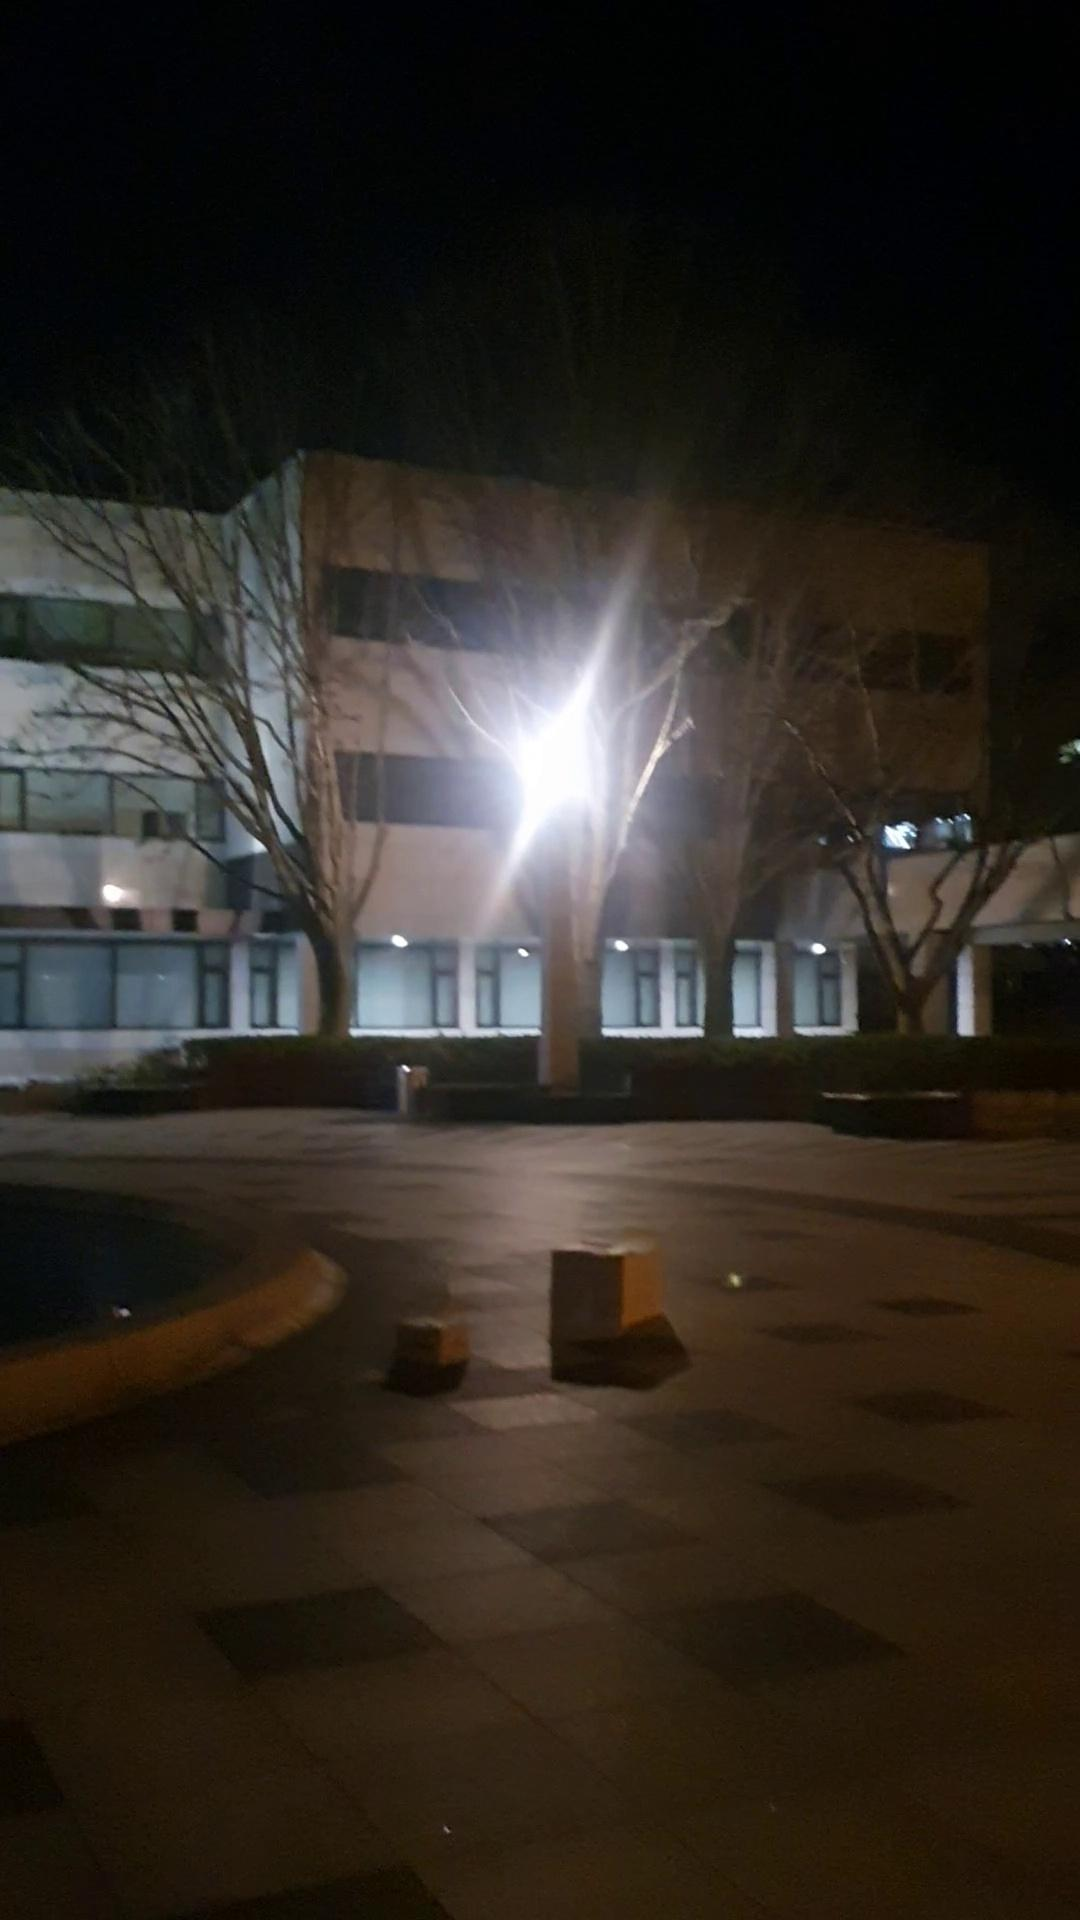Box: (535, 1220, 670, 1371), (393, 1295, 491, 1377)
